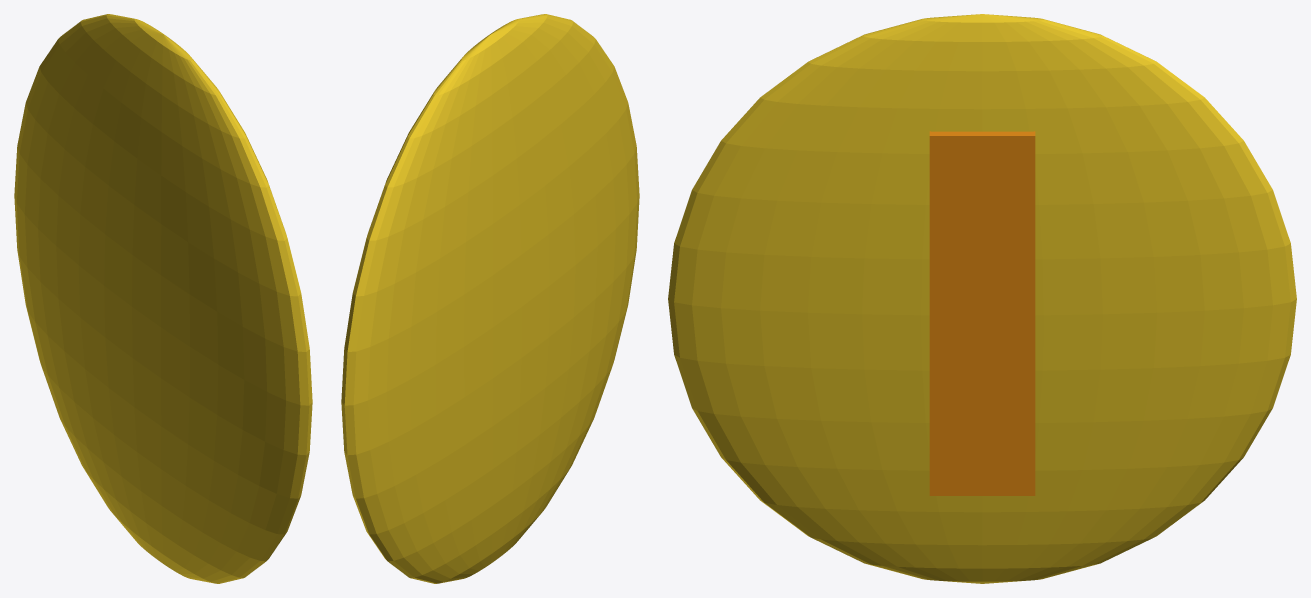
3 renders of one model, left to right at view 1: azimuth 30°, elevation 25°; view 2: azimuth 150°, elevation 25°; view 3: azimuth 270°, elevation 25°, orthographic. The views are drawn at different scales.
Parts seen in each view (by area): view 1: Sphere; view 2: Sphere; view 3: Sphere, Cube.
Boxes of the visible parts, box(x1,y1,x2,y2) form: Sphere: box(14, 14, 312, 583); Sphere: box(341, 14, 639, 583); Sphere: box(668, 14, 1296, 583); Cube: box(929, 131, 1035, 495).
Bounding box in the file's own units: 25.32 × 200 × 200.
